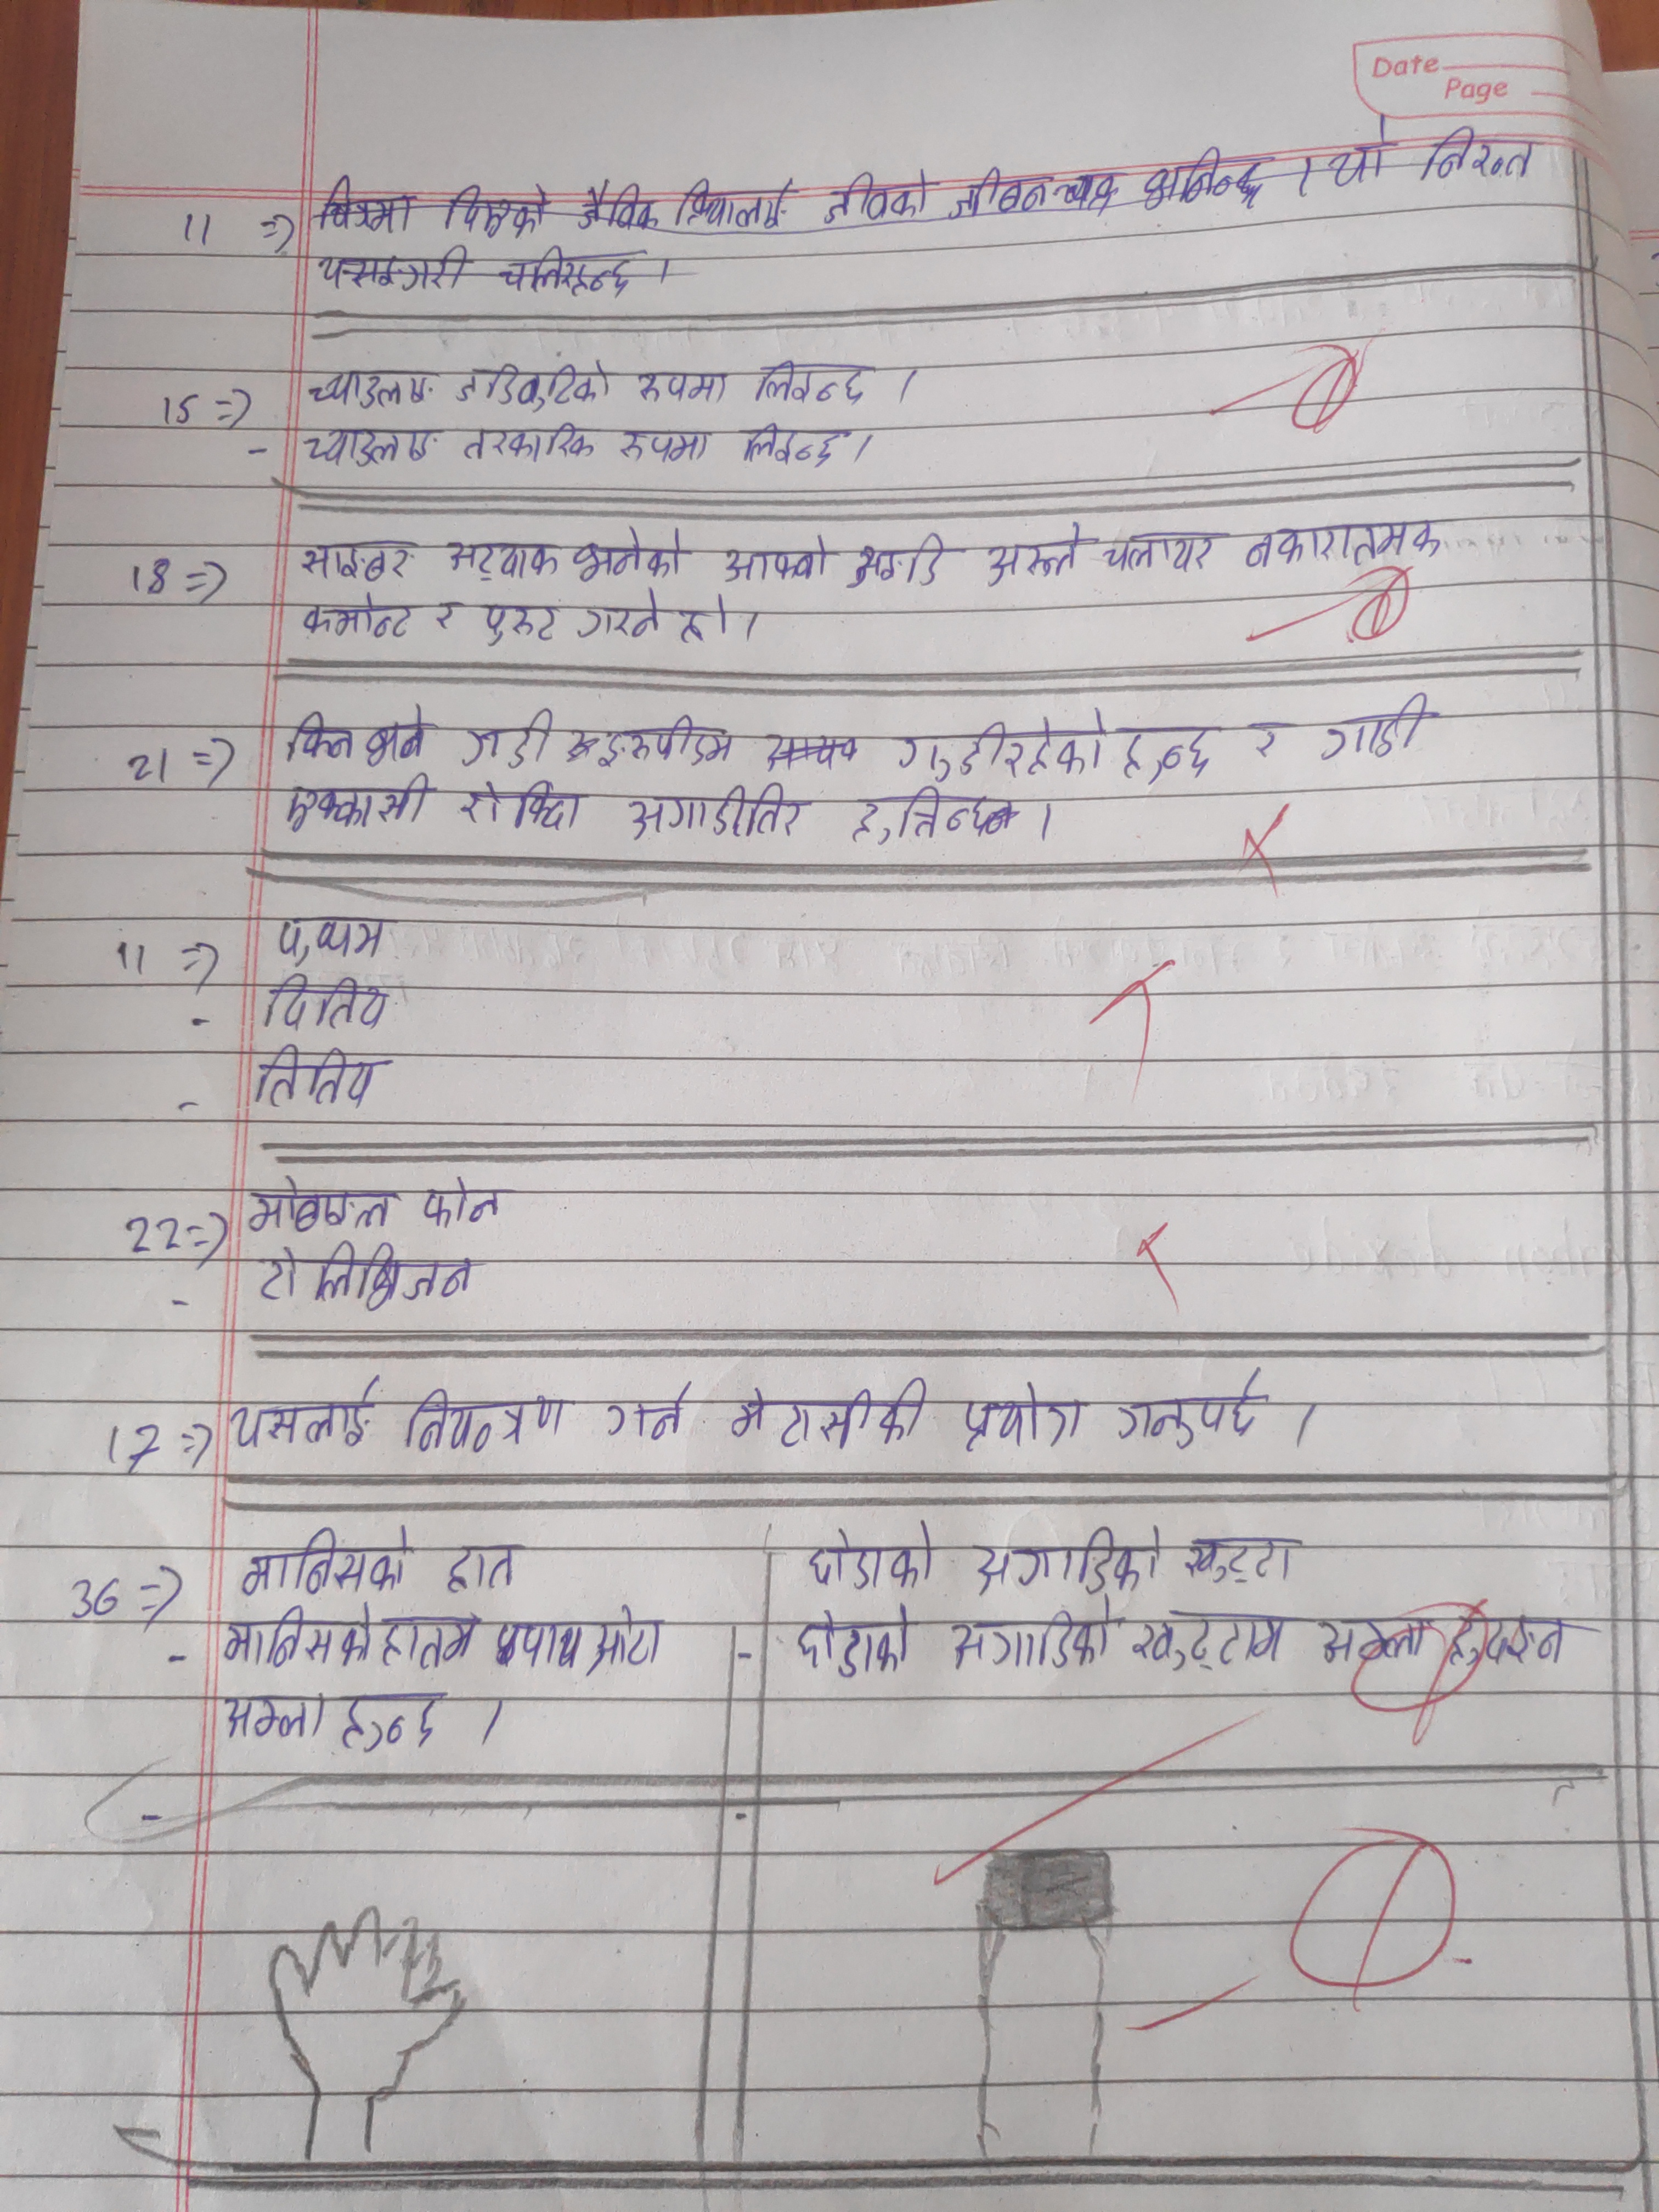text: (892, 704, 1112, 780), (253, 1238, 484, 1308), (727, 1372, 927, 1453), (971, 1526, 1166, 1602), (237, 1521, 413, 1599), (1114, 1367, 1276, 1447), (495, 1601, 667, 1674), (401, 1385, 575, 1456), (624, 780, 810, 846), (230, 1374, 390, 1449), (945, 1601, 1115, 1670), (1243, 514, 1443, 570), (854, 780, 1018, 845), (218, 1604, 373, 1672), (957, 1378, 1091, 1456), (1129, 1611, 1293, 1674), (277, 772, 434, 836), (789, 1606, 915, 1684), (805, 1522, 943, 1592), (458, 355, 613, 415), (249, 1176, 401, 1235), (1438, 1611, 1574, 1674), (594, 712, 735, 772), (258, 1045, 385, 1109), (261, 974, 397, 1033), (1180, 1527, 1304, 1588), (1321, 695, 1425, 766), (270, 909, 392, 970), (338, 1683, 443, 1752), (570, 528, 688, 589), (979, 523, 1086, 590), (457, 416, 598, 467), (1114, 721, 1223, 786), (301, 420, 441, 470), (845, 526, 945, 594), (460, 779, 580, 834), (596, 1379, 697, 1444), (1314, 1613, 1431, 1669), (220, 1686, 329, 1745), (298, 533, 420, 585), (376, 1613, 481, 1674), (301, 587, 415, 641), (720, 531, 836, 583), (1103, 526, 1222, 577), (441, 535, 563, 583), (756, 357, 868, 409), (303, 368, 436, 411), (460, 709, 551, 770), (737, 420, 847, 469), (420, 1176, 507, 1237), (439, 1538, 519, 1599), (577, 587, 666, 641), (479, 596, 568, 648), (617, 423, 714, 469), (289, 704, 357, 765), (634, 368, 728, 409), (364, 707, 427, 768), (1243, 711, 1288, 763), (676, 599, 709, 651), (429, 596, 464, 636)
